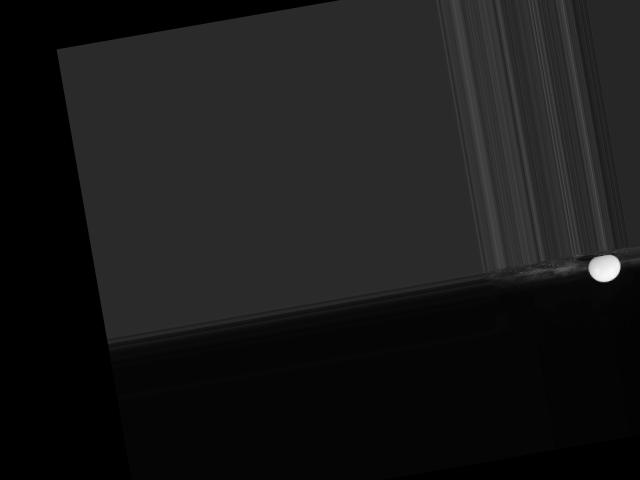egg: (585, 253, 622, 284)
